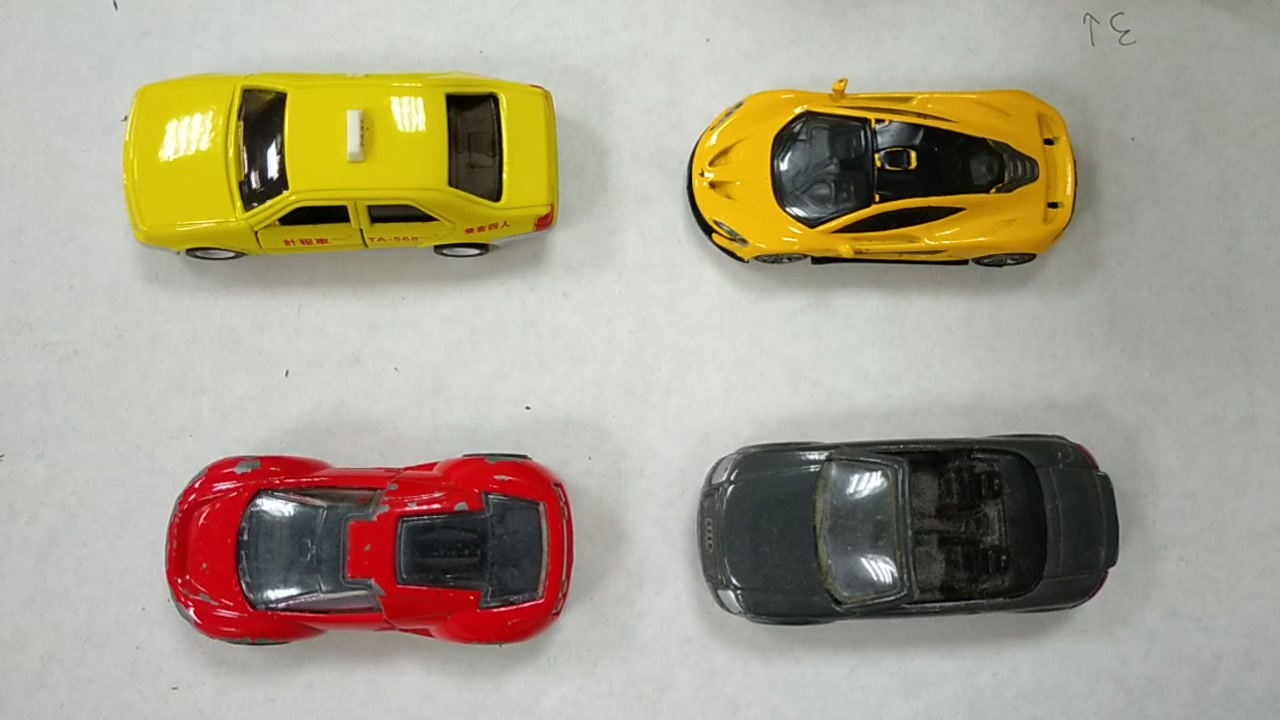car: (698, 437, 1119, 619), (162, 455, 579, 637), (130, 77, 553, 244), (689, 99, 1084, 260)
